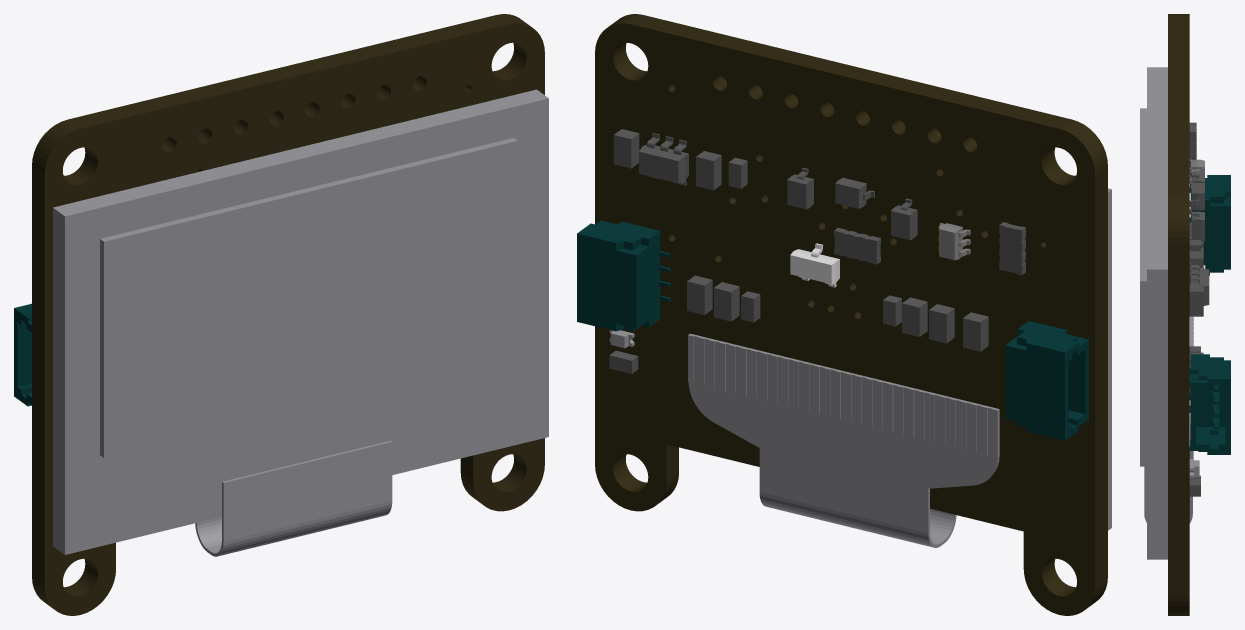
Rendered from adafruit-ssd1306-oled-128x64.glb.
3 views of the same model, side by side, from view 1: azimuth 30°, elevation 25°; view 2: azimuth 150°, elevation 25°; view 3: azimuth 270°, elevation 25° (orthographic). The views are drawn at different scales.
Visible parts, largest first — view 1: adafruit-ssd1306-oled-128x64; view 2: adafruit-ssd1306-oled-128x64; view 3: adafruit-ssd1306-oled-128x64.
Part boxes in pixels (x1=…): adafruit-ssd1306-oled-128x64: x1=14, y1=14, x2=548, y2=615; adafruit-ssd1306-oled-128x64: x1=577, y1=14, x2=1111, y2=615; adafruit-ssd1306-oled-128x64: x1=1140, y1=14, x2=1230, y2=615.
Bounding box in the file's own units: 35.56 × 33.02 × 6.53.
